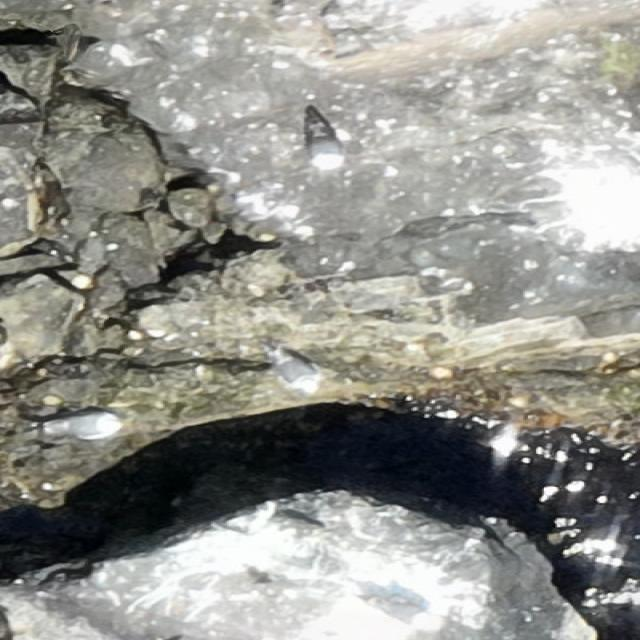umineko: (295, 110, 345, 174), (39, 410, 126, 439), (265, 349, 320, 393)
